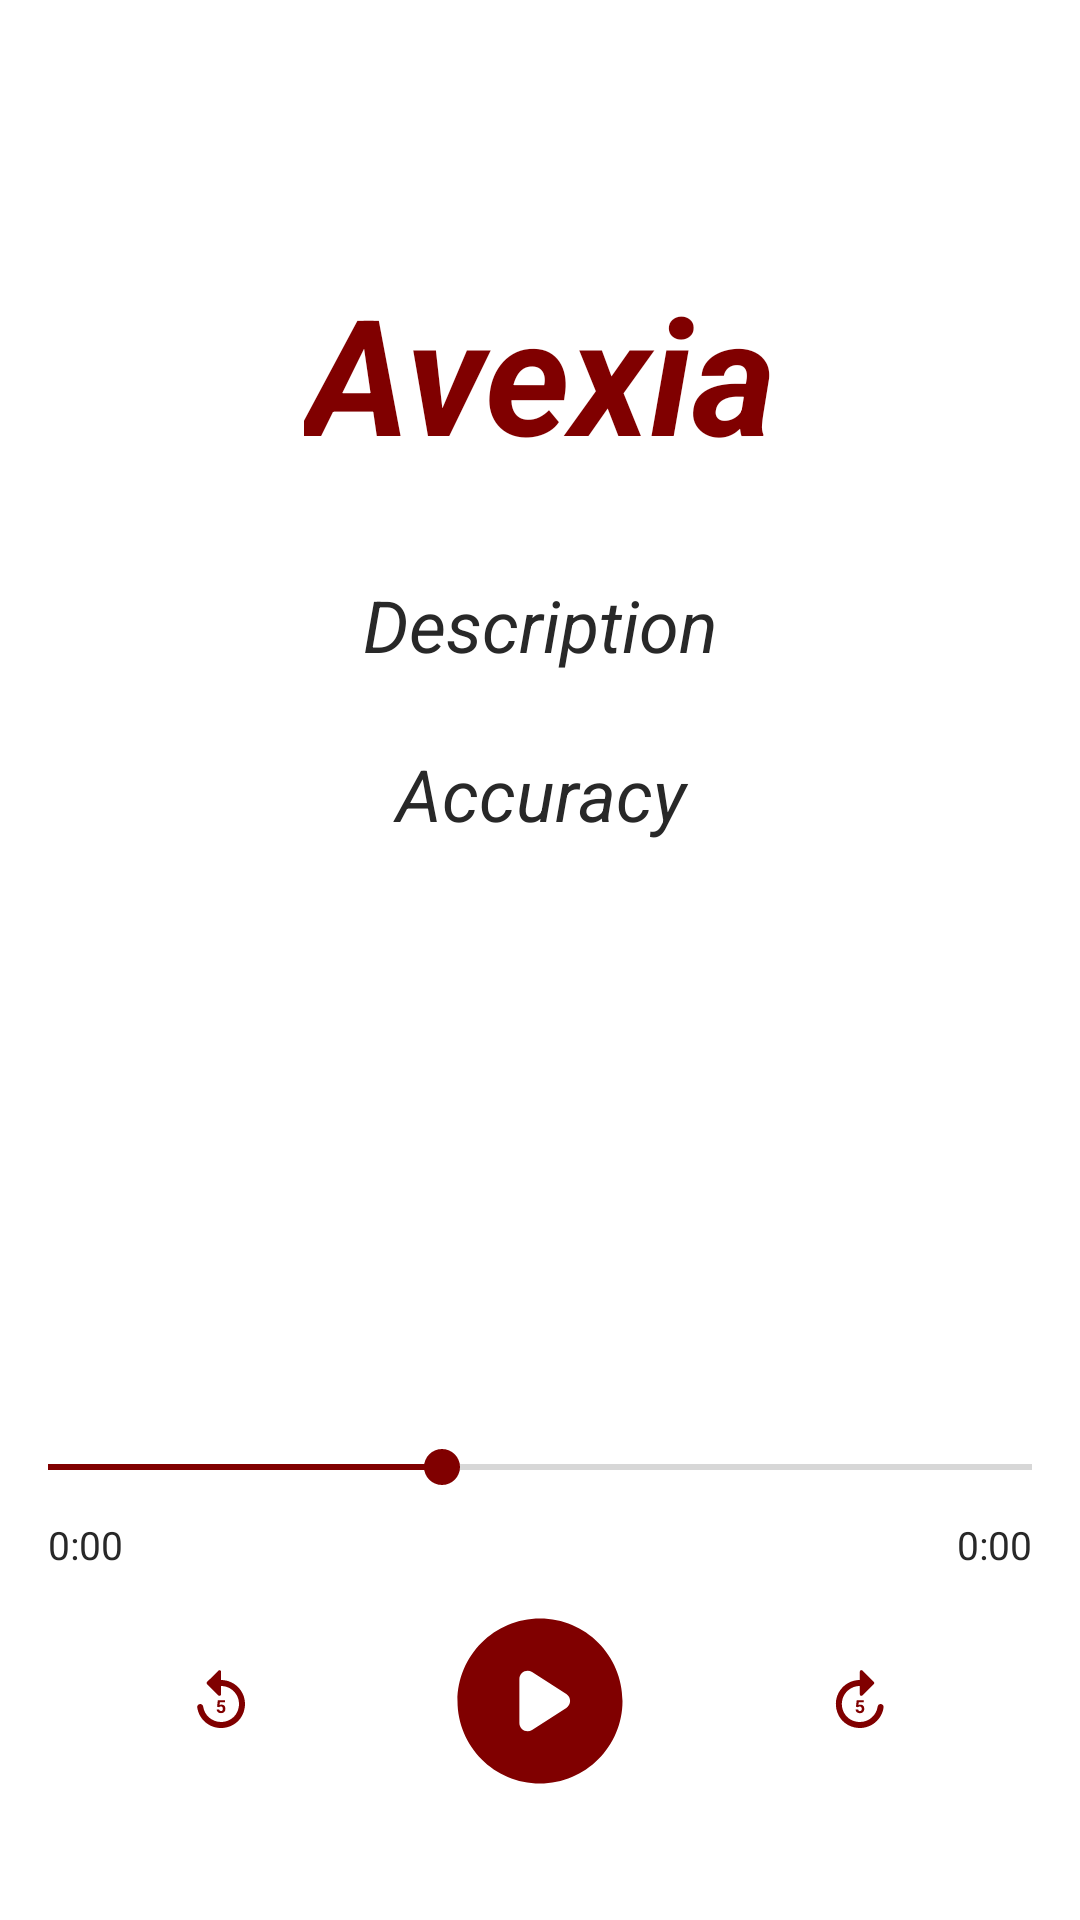

Icon click points for this 1080px x 1920px phone screenshot, format (x,y):
backward: (221,1699)
forward: (859,1699)
play circle: (540,1701)
